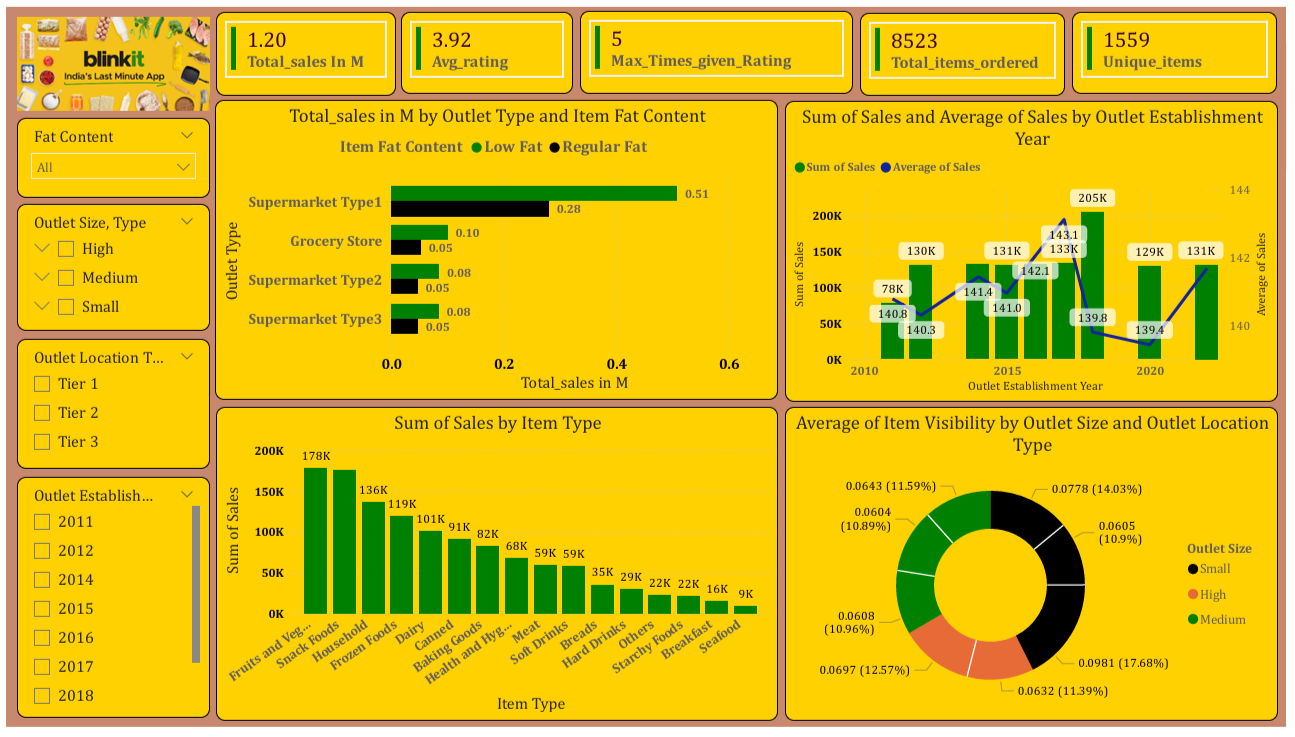

This screenshot's page, from the dashboard's own definition file:
{"tool":"powerbi","page":{"name":"Page 1","canvas":[1280,720],"ordinal":0},"visuals":[{"type":"image","box":[5.7,2.9,202.9,107.1],"z":0},{"type":"multiRowCard","fields":{"Values":["Sheet1.Total_sales"]},"box":[208.7,4,180,84],"z":1000},{"type":"multiRowCard","fields":{"Values":["Sheet1.Avg_rating"]},"box":[394,4,172,82],"z":2000},{"type":"multiRowCard","fields":{"Values":["Sheet1.Max_Times_given_Rating"]},"box":[573,3,273,83],"z":3000},{"type":"multiRowCard","fields":{"Values":["Sheet1.Total_items_ordered"]},"box":[852.5,5,205,82.5],"z":4000},{"type":"slicer","fields":{"Values":["Sheet1.Item Fat Content"]},"box":[10,110,192.9,80],"z":5000},{"type":"slicer","fields":{"Values":["Sheet1.Outlet Size","Sheet1.Outlet Type"]},"box":[10,195.7,192.9,127.1],"z":6000},{"type":"slicer","fields":{"Values":["Sheet1.Outlet Location Type"]},"box":[10,330.6,192.9,130],"z":7000},{"type":"slicer","fields":{"Values":["Sheet1.Outlet Establishment Year"]},"box":[10,468.6,192.9,241.4],"z":8000},{"type":"clusteredBarChart","fields":{"Category":["Sheet1.Outlet Type"],"Y":["Sheet1.Total_sales"],"Series":["Sheet1.Item Fat Content"]},"box":[208.3,91.8,562.9,300],"z":9000},{"type":"clusteredColumnChart","fields":{"Y":["Sum(Sheet1.Sales)"],"Category":["Sheet1.Item Type"]},"box":[208.9,398.9,562.2,314.4],"z":10000},{"type":"lineClusteredColumnComboChart","fields":{"Category":["Sheet1.Outlet Establishment Year"],"Y":["Sum(Sheet1.Sales)"],"Y2":["Avg(Sheet1.Sales)"]},"box":[777.5,92.5,493.8,301.2],"z":11000},{"type":"donutChart","fields":{"Category":["Sheet1.Outlet Size"],"Y":["Avg(Sheet1.Item Visibility)"],"Series":["Sheet1.Outlet Location Type"]},"box":[778,399,493,314],"z":12000},{"type":"multiRowCard","fields":{"Values":["Sheet1.Unique_items"]},"box":[1065,3.8,205,82.5],"z":13000}]}

Visuals, with their boxes in screenshot pixels (x1, y1, x2, y2), scaled from the page's 1280x720 canvas onto the 1295x737 screenshot:
image: {"left": 6, "top": 3, "right": 211, "bottom": 113}
multiRowCard - Sheet1.Total_sales: {"left": 211, "top": 4, "right": 393, "bottom": 90}
multiRowCard - Sheet1.Avg_rating: {"left": 399, "top": 4, "right": 573, "bottom": 88}
multiRowCard - Sheet1.Max_Times_given_Rating: {"left": 580, "top": 3, "right": 856, "bottom": 88}
multiRowCard - Sheet1.Total_items_ordered: {"left": 862, "top": 5, "right": 1070, "bottom": 90}
slicer - Sheet1.Item Fat Content: {"left": 10, "top": 113, "right": 205, "bottom": 194}
slicer - Sheet1.Outlet Size x Sheet1.Outlet Type: {"left": 10, "top": 200, "right": 205, "bottom": 330}
slicer - Sheet1.Outlet Location Type: {"left": 10, "top": 338, "right": 205, "bottom": 471}
slicer - Sheet1.Outlet Establishment Year: {"left": 10, "top": 480, "right": 205, "bottom": 727}
clusteredBarChart - Sheet1.Outlet Type x Sheet1.Total_sales: {"left": 211, "top": 94, "right": 780, "bottom": 401}
clusteredColumnChart - Sum(Sheet1.Sales) x Sheet1.Item Type: {"left": 211, "top": 408, "right": 780, "bottom": 730}
lineClusteredColumnComboChart - Sheet1.Outlet Establishment Year x Sum(Sheet1.Sales): {"left": 787, "top": 95, "right": 1286, "bottom": 403}
donutChart - Sheet1.Outlet Size x Avg(Sheet1.Item Visibility): {"left": 787, "top": 408, "right": 1286, "bottom": 730}
multiRowCard - Sheet1.Unique_items: {"left": 1077, "top": 4, "right": 1285, "bottom": 88}
